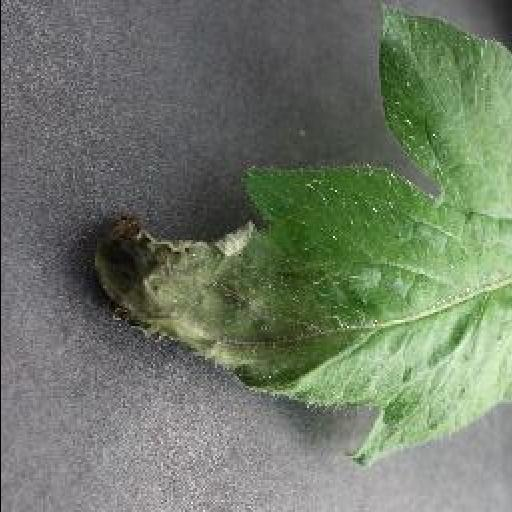disease_tomato: (78, 0, 512, 464)
